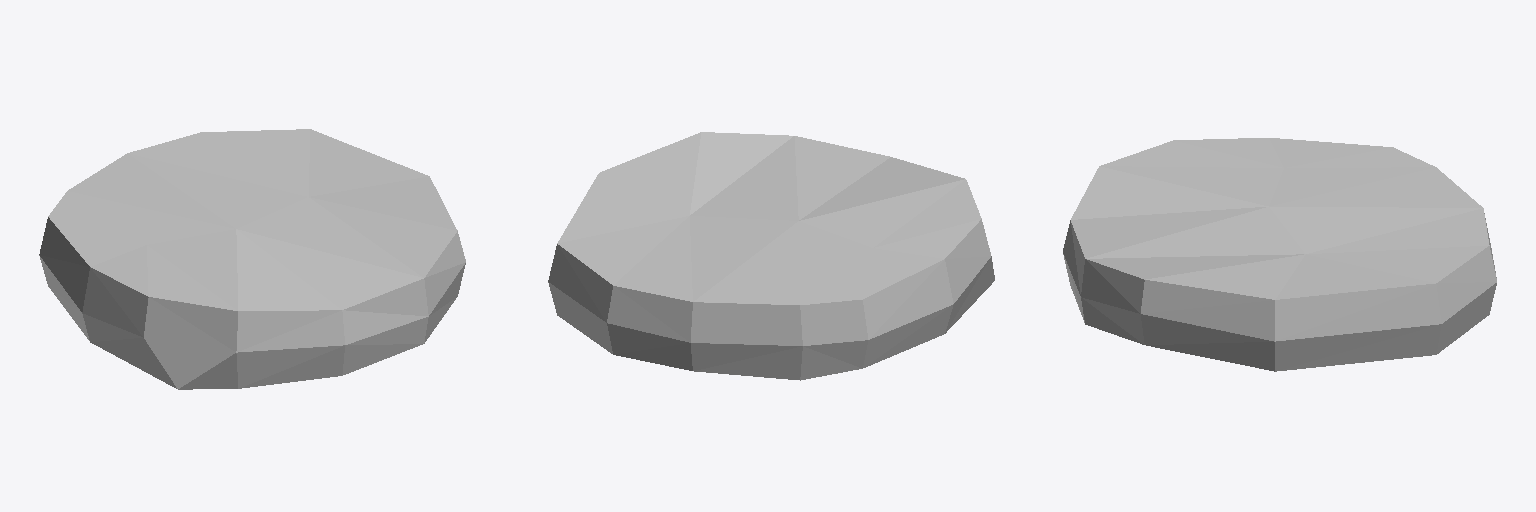
The model's file is iceberg2.obj.
3 renders of one model, left to right at view 1: azimuth 30°, elevation 25°; view 2: azimuth 150°, elevation 25°; view 3: azimuth 270°, elevation 25°, orthographic.
Size of the model in its own units: 6.96 by 1.55 by 7.29.